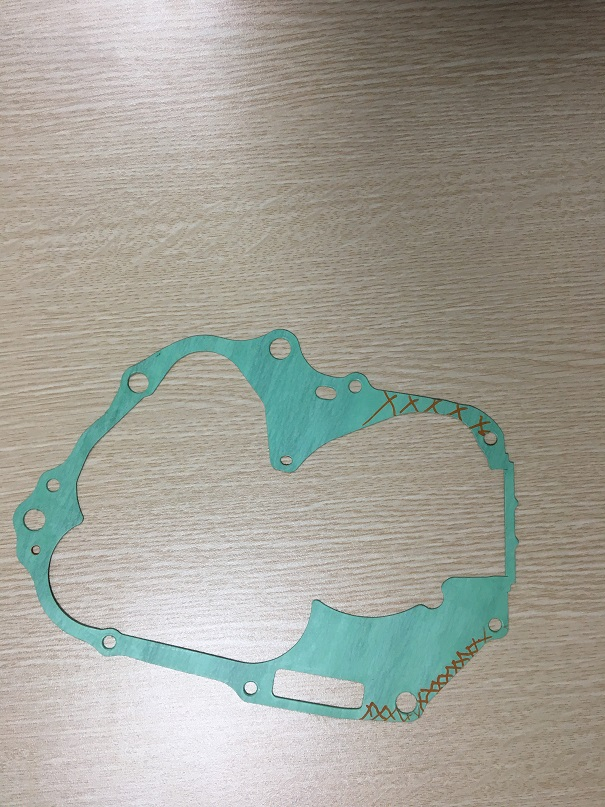type3: (13, 326, 536, 733)
